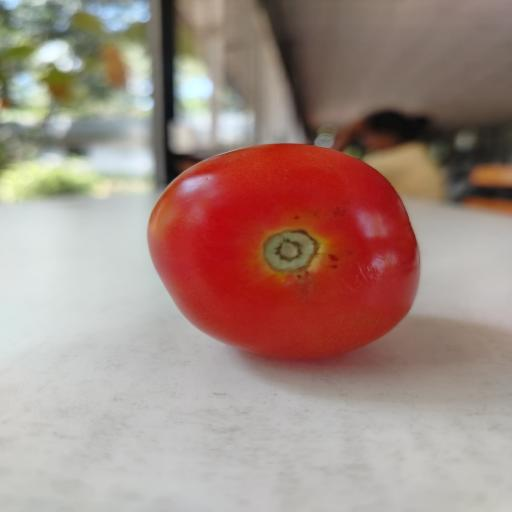ripe: (147, 144, 419, 359)
